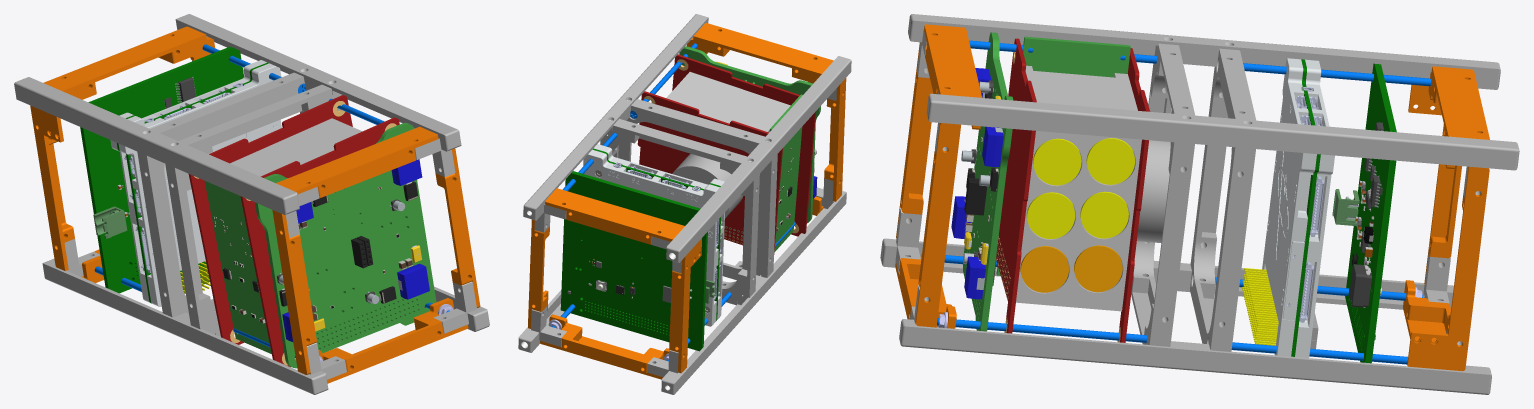
The model's file is cubesat.glb.
3 renders of one model, left to right at view 1: azimuth 30°, elevation 25°; view 2: azimuth 150°, elevation 25°; view 3: azimuth 270°, elevation 25°, orthographic. The views are drawn at different scales.
Parts seen in each view (by area): view 1: Sólido1 (×16), Solid1 (×4); view 2: Sólido1 (×16), Solid1 (×5); view 3: Sólido1 (×28), Solid1 (×5).
Part boxes in pixels (x1,y1,x2,y2): Sólido1 (×16): [14, 14, 489, 394]; Solid1 (×4): [80, 46, 436, 368]; Sólido1 (×16): [518, 14, 851, 394]; Solid1 (×5): [560, 46, 820, 351]; Sólido1 (×28): [880, 14, 1519, 394]; Solid1 (×5): [951, 32, 1396, 363].
Bounding box in the file's own units: 0.1241 × 0.1352 × 0.2437.
